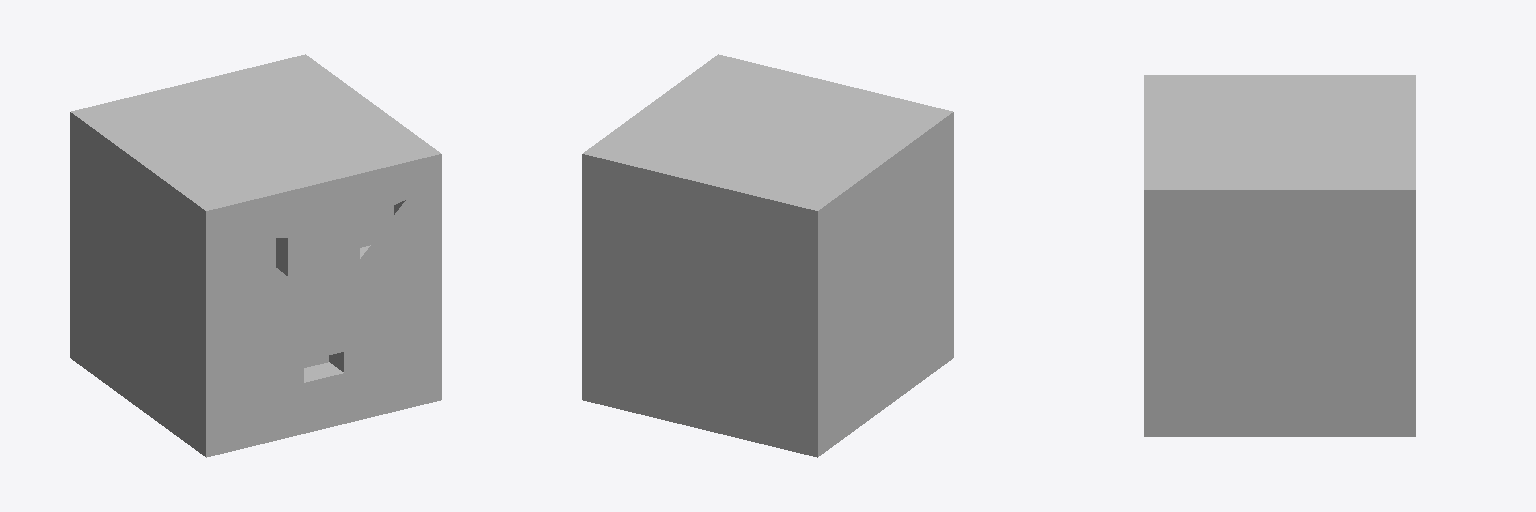
The model's file is coal 2.obj.
3 views of the same model, side by side, from view 1: azimuth 30°, elevation 25°; view 2: azimuth 150°, elevation 25°; view 3: azimuth 270°, elevation 25° (orthographic).
Visible parts, largest first — view 1: Cube; view 2: Cube; view 3: Cube.
Boxes of the visible parts, <box> form: Cube: <box>70,54,441,457</box>; Cube: <box>582,54,953,457</box>; Cube: <box>1144,75,1415,436</box>.
Size of the model in its own units: 2 by 2 by 2.